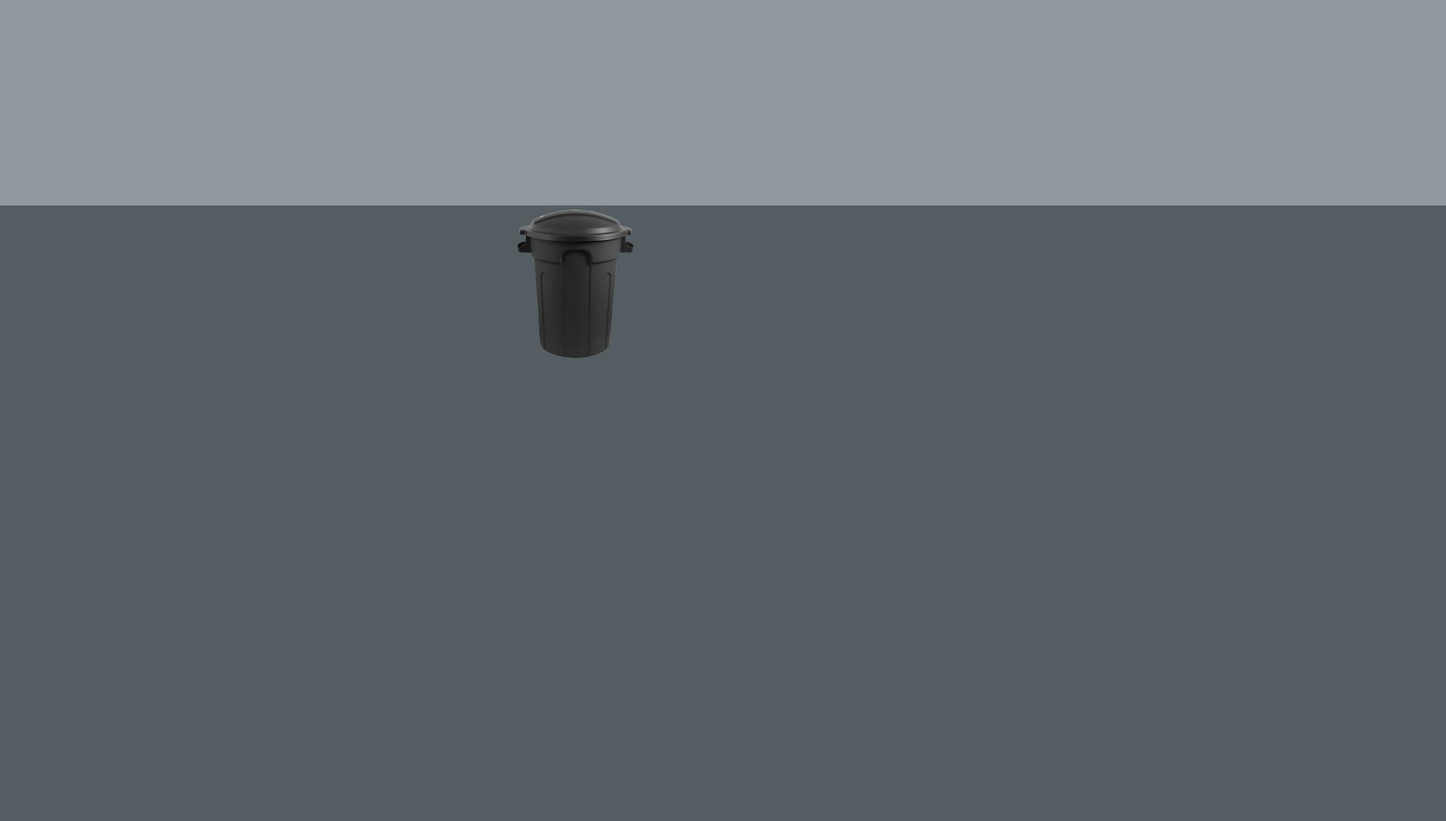garbage container: (516, 208, 637, 360)
